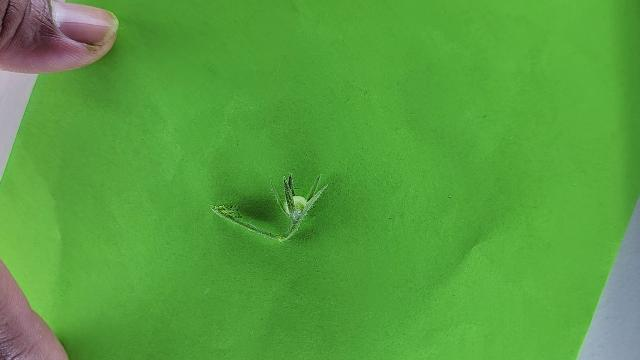Fruit Bud: (271, 171, 327, 232)
